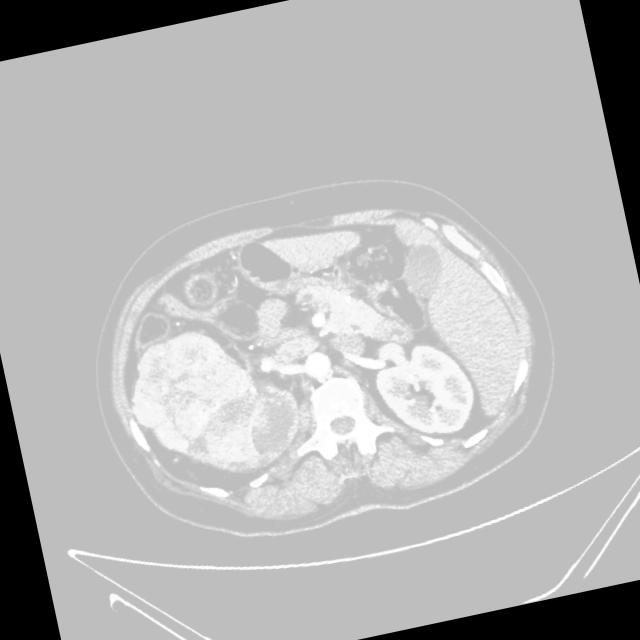TUMOR: (105, 277, 496, 518)
